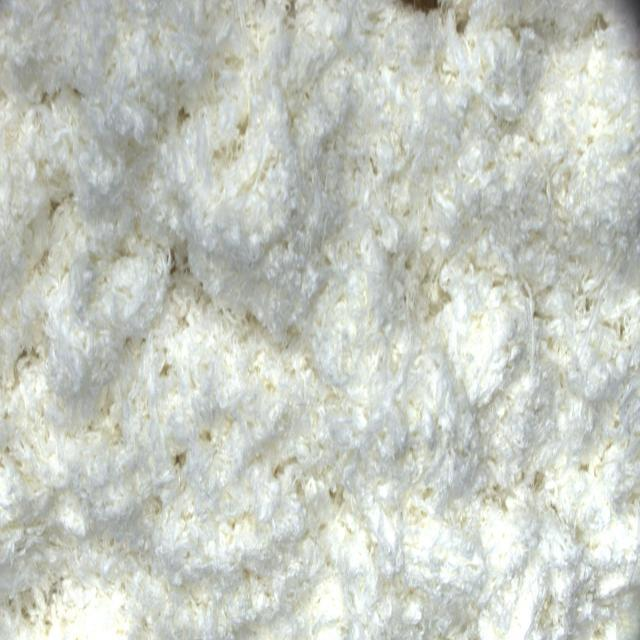dust: (401, 2, 455, 14)
